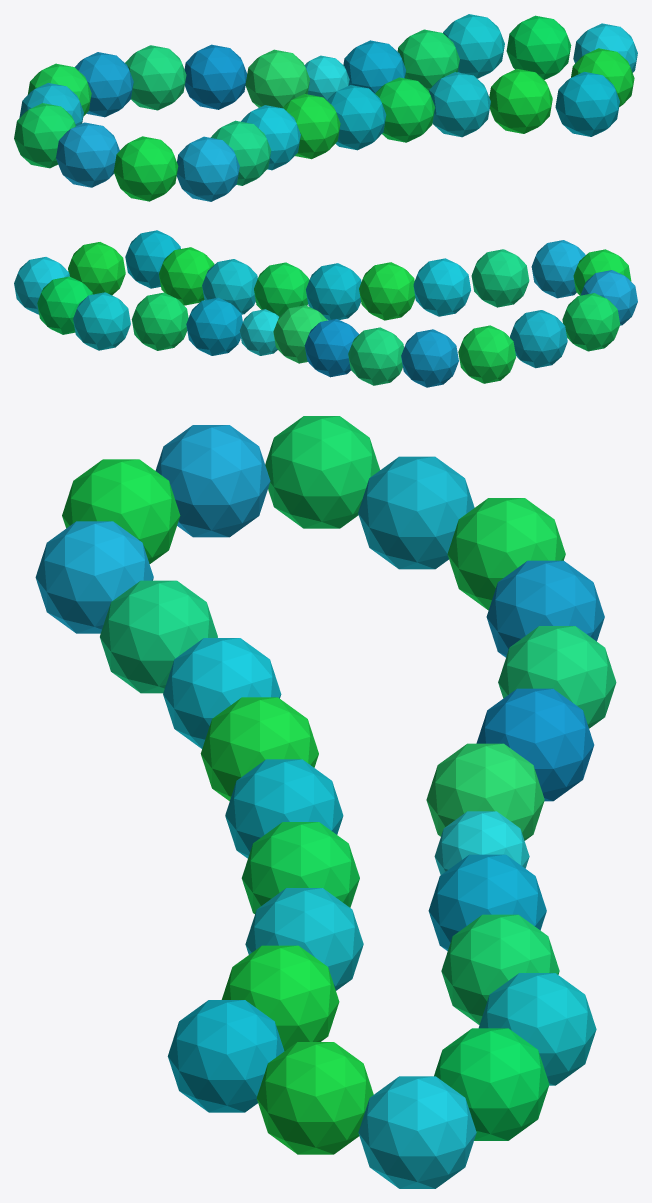
Rendered from Bead$10.fbx.
3 renders of one model, top to bottom at view 1: azimuth 30°, elevation 25°; view 2: azimuth 150°, elevation 25°; view 3: azimuth 270°, elevation 25°, orthographic. The views are drawn at different scales.
Visible parts, largest first — view 1: Icosphere.024; view 2: Icosphere.024; view 3: Icosphere.024.
Part boxes in pixels (<box>): Icosphere.024: <box>14,14,637,201</box>; Icosphere.024: <box>14,230,637,387</box>; Icosphere.024: <box>35,416,616,1188</box>.
Bounding box in the file's own units: 1388 × 297 × 609.
